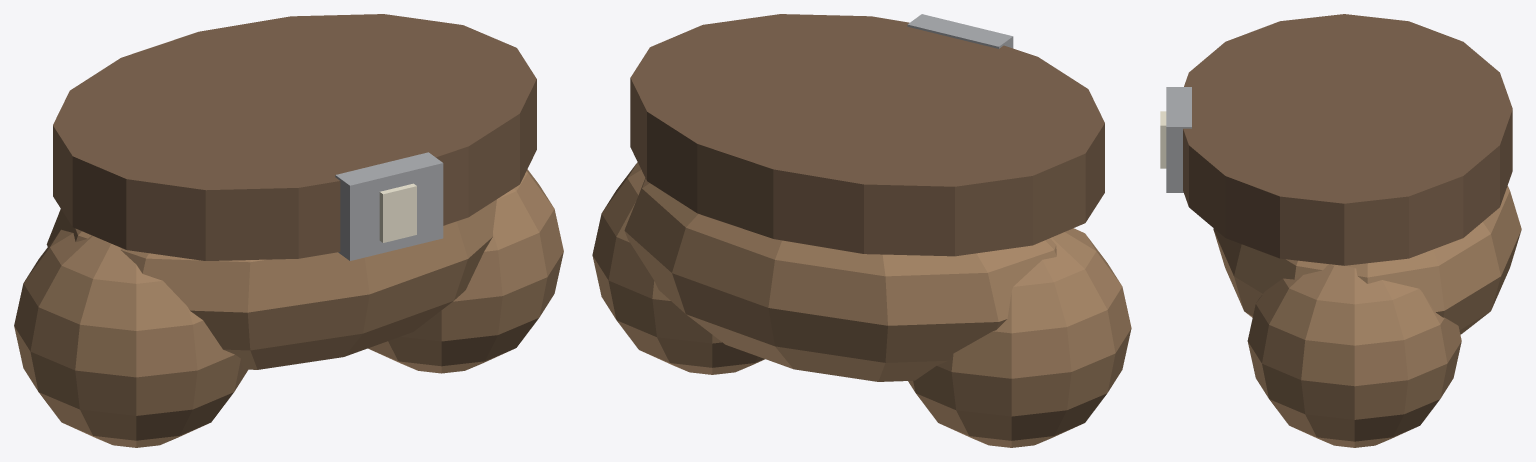
File: SM_Orc_Pelvis.fbx
3 renders of one model, left to right at view 1: azimuth 30°, elevation 25°; view 2: azimuth 150°, elevation 25°; view 3: azimuth 270°, elevation 25°, orthographic. The views are drawn at different scales.
Parts seen in each view (by area): view 1: SM_Orc_Pelvis; view 2: SM_Orc_Pelvis; view 3: SM_Orc_Pelvis.
Part boxes in pixels (box(x1,y1,x2,y2)): SM_Orc_Pelvis: box(14, 14, 563, 447); SM_Orc_Pelvis: box(592, 14, 1131, 447); SM_Orc_Pelvis: box(1160, 14, 1521, 447).
Size of the model in its own units: 0.61 by 0.3425 by 0.422.
